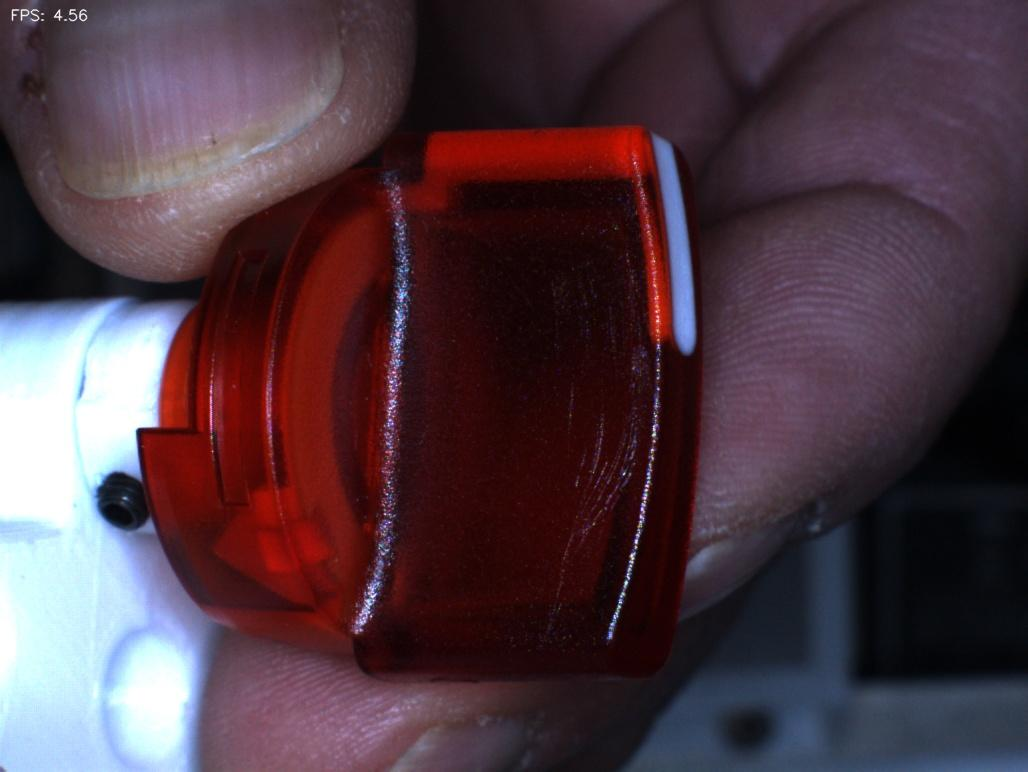Givrage: (550, 264, 647, 536)
